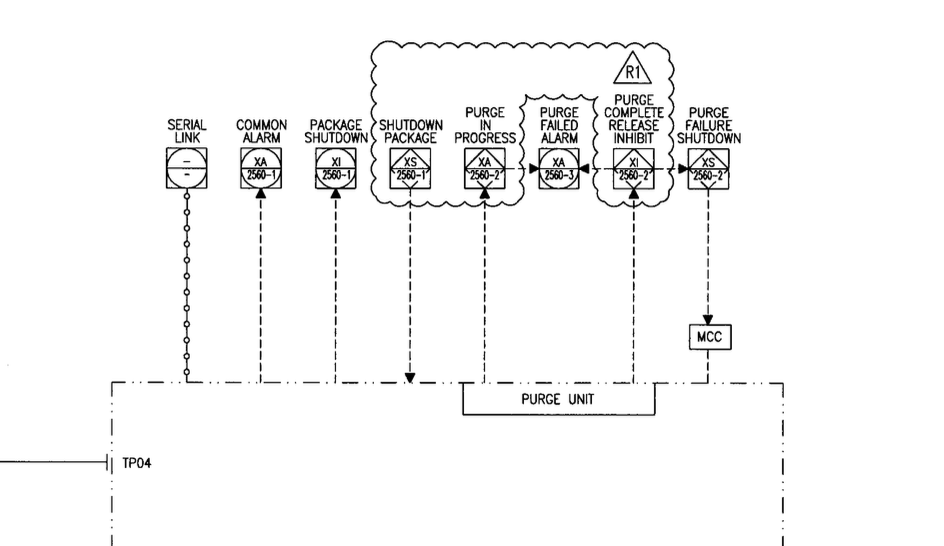Instrument-square: (383, 143, 436, 192), (683, 143, 734, 193), (610, 142, 659, 193), (534, 144, 584, 192), (311, 144, 360, 192), (237, 144, 285, 192), (462, 146, 507, 191)
